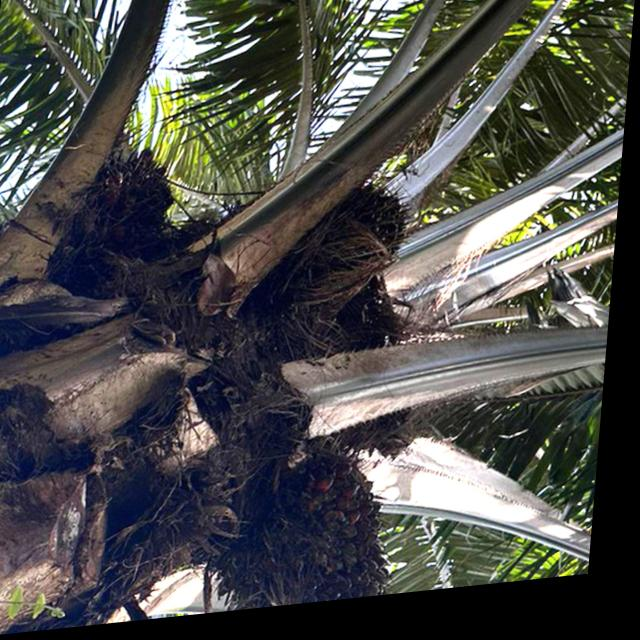unripe: (225, 439, 422, 618), (267, 176, 427, 344), (71, 135, 187, 292)
